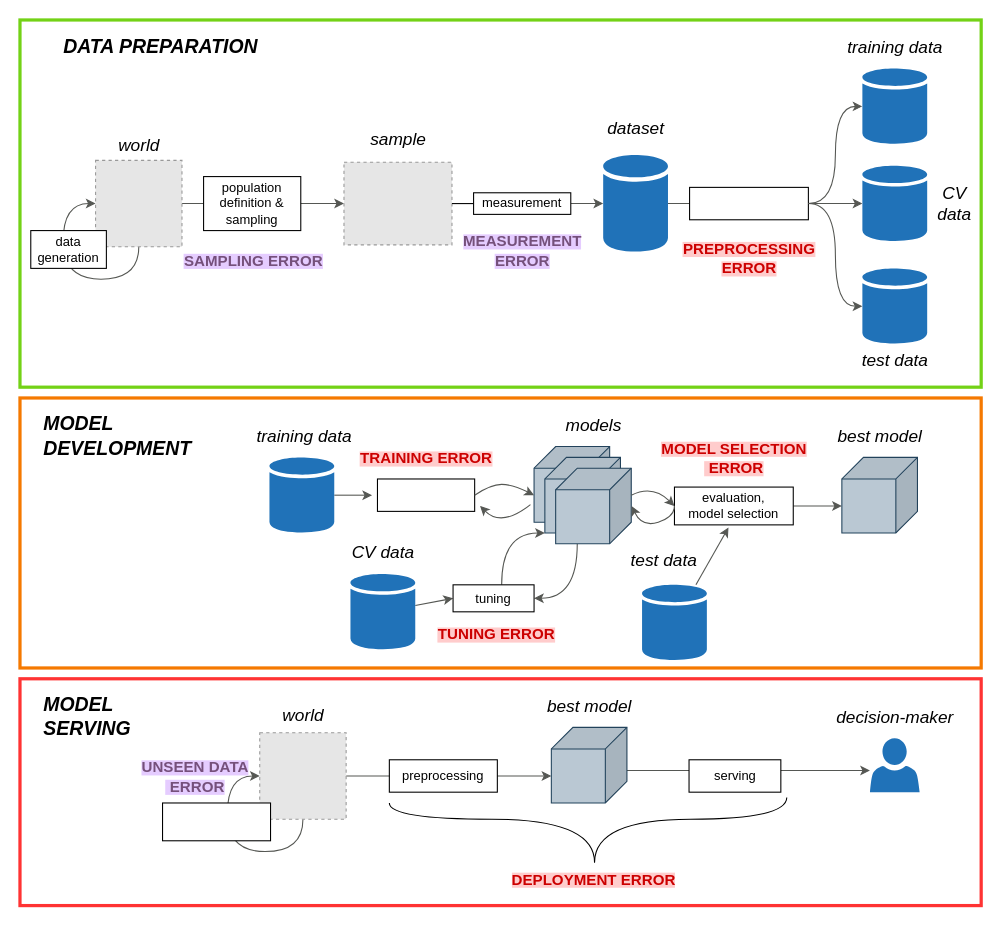
Image size: 1001x926. Some labels were removed from this diagram. Grey dashed boxes stand in for pictures. Each missing label, with the centre of its shape:
"model learning" belongs at pixel 425 494.
"preprocessing, train/cv/test split" belongs at pixel 748 203.
"real-world events streaming" belongs at pixel 216 821.
